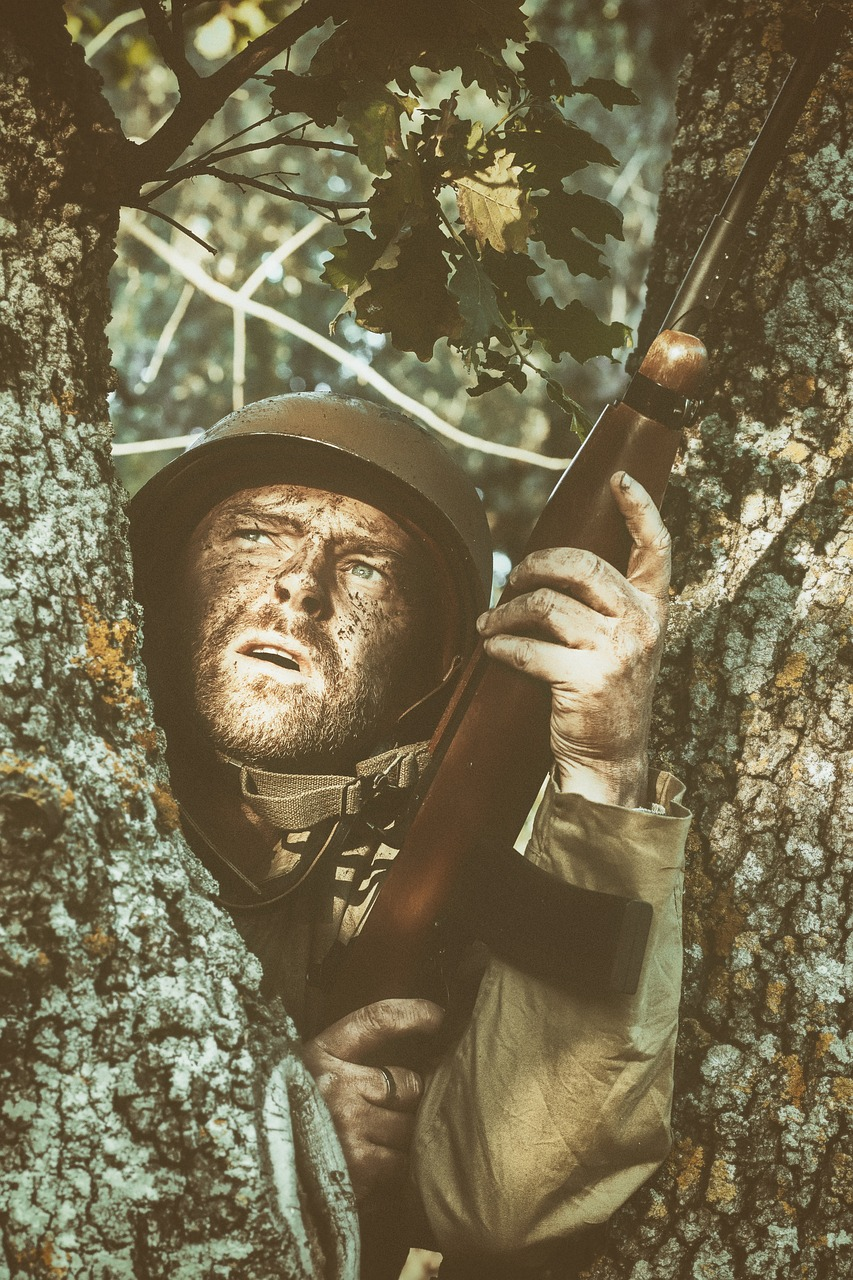gun: (300, 0, 846, 1080)
